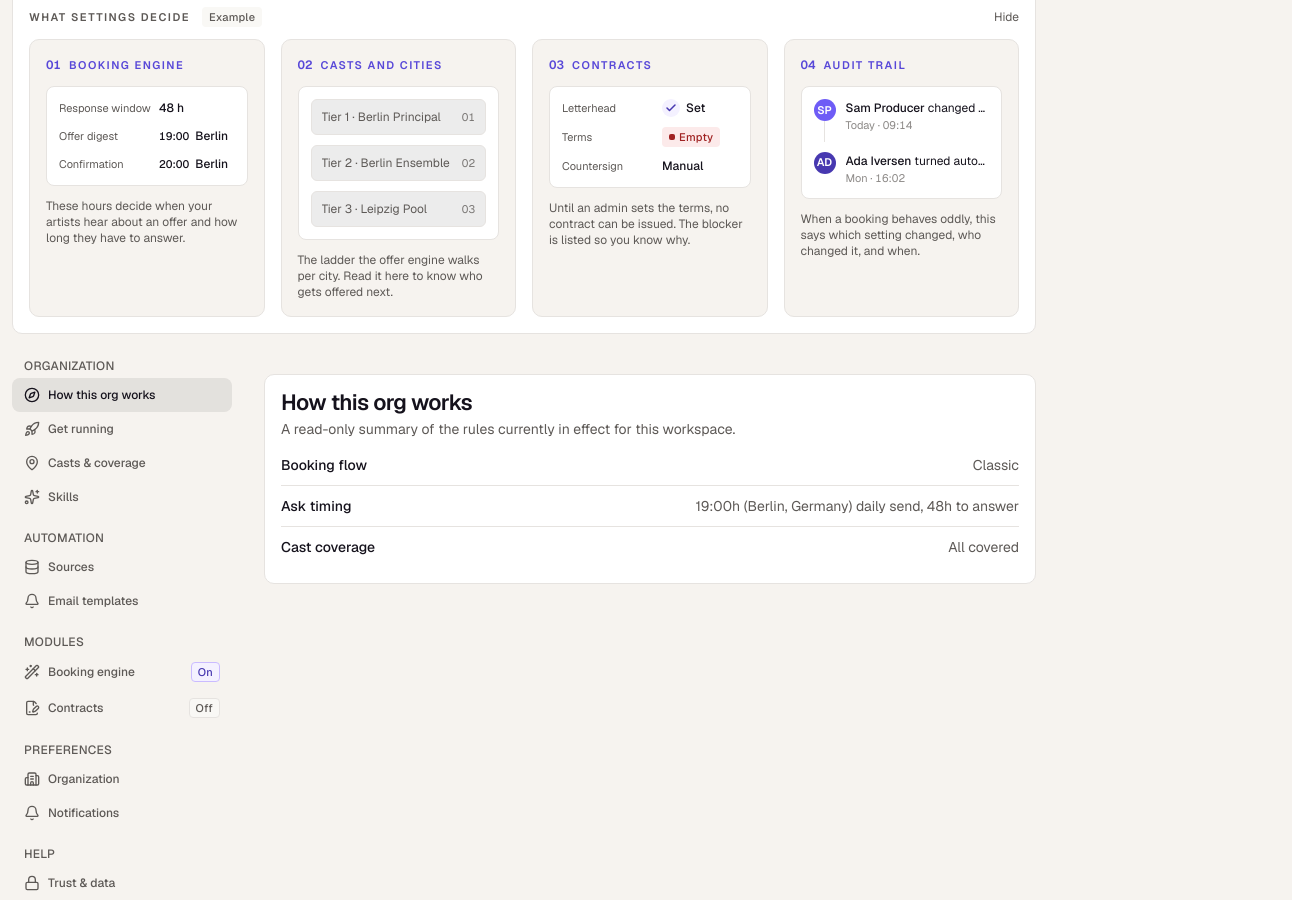
Scenario: SettingsPage producer capability read-only floor › disables the Notifications switch (but still shows its value) when edit_filter_settings is off
(page scrolled)
Press the mouse on the tab "Notifications" at (122,813), box [12,796,232,830]
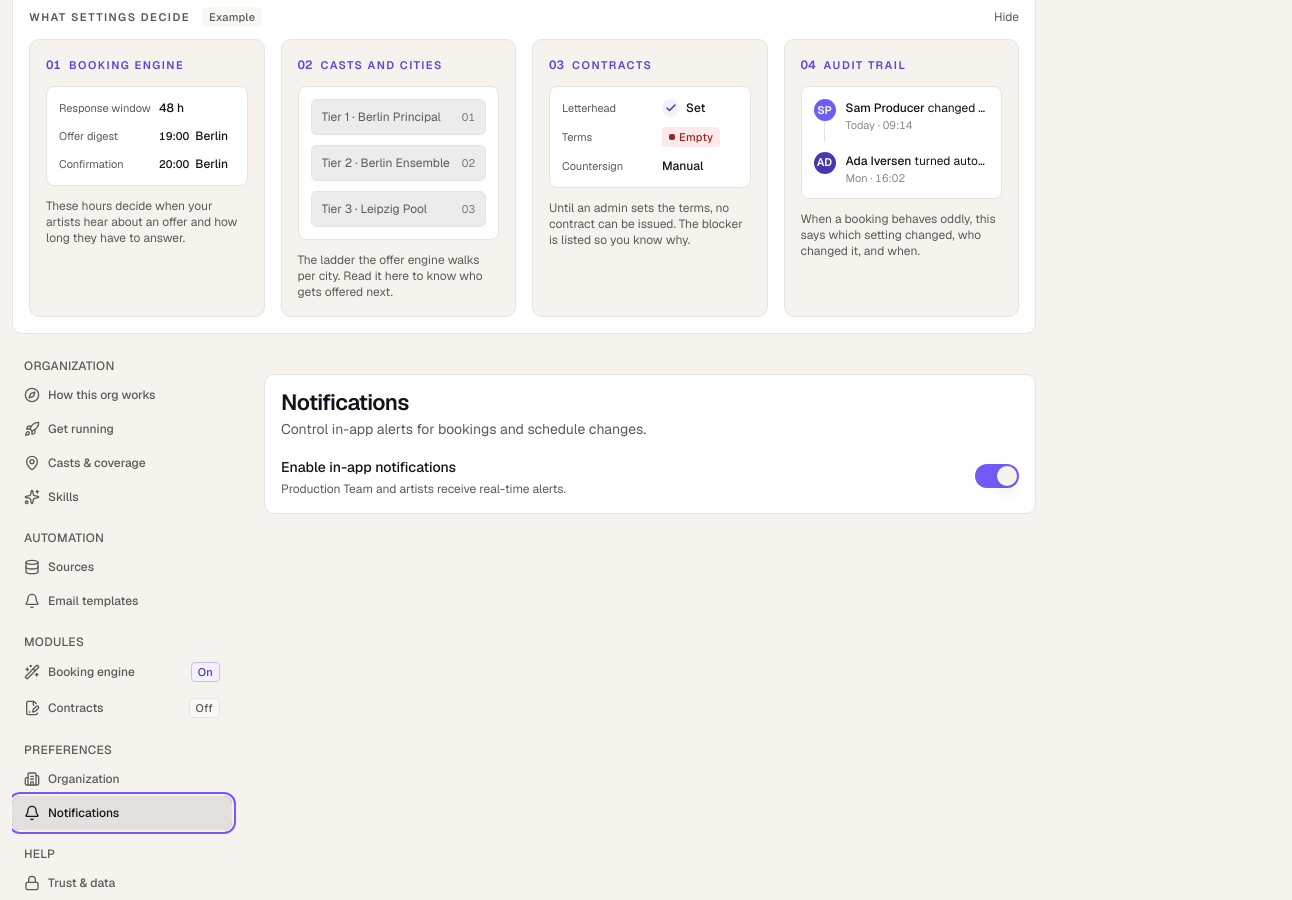
Result: the switch is disabled at [975,464,1019,488]
